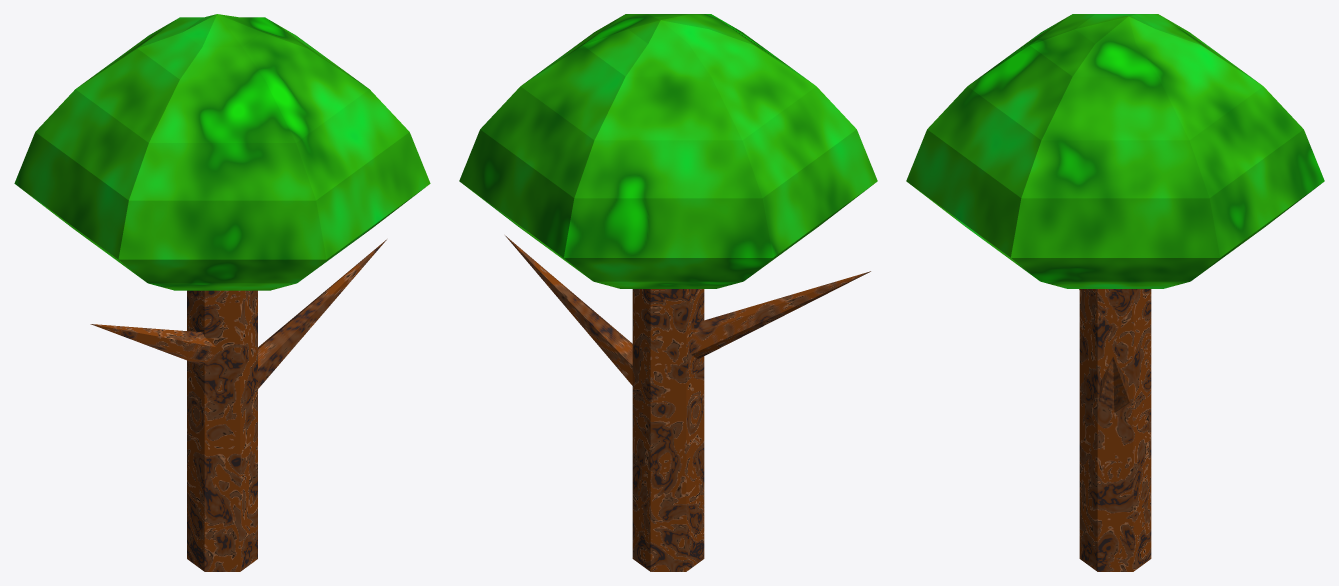
Rendered from GreenWOod.fbx.
3 renders of one model, left to right at view 1: azimuth 30°, elevation 25°; view 2: azimuth 150°, elevation 25°; view 3: azimuth 270°, elevation 25°, orthographic.
Visible parts, largest first — view 1: Circle.009; view 2: Circle.009; view 3: Circle.009.
Boxes of the visible parts, left/top/right/bottom form: Circle.009: left=14, top=14, right=430, bottom=571; Circle.009: left=459, top=14, right=877, bottom=571; Circle.009: left=906, top=14, right=1324, bottom=571.
Size of the model in its own units: 1082 by 1679 by 1173.
